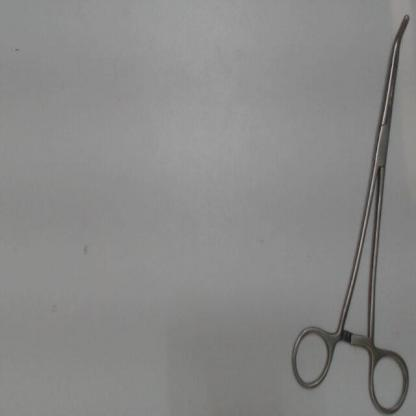Lahey Forceps: (284, 10, 413, 415)
